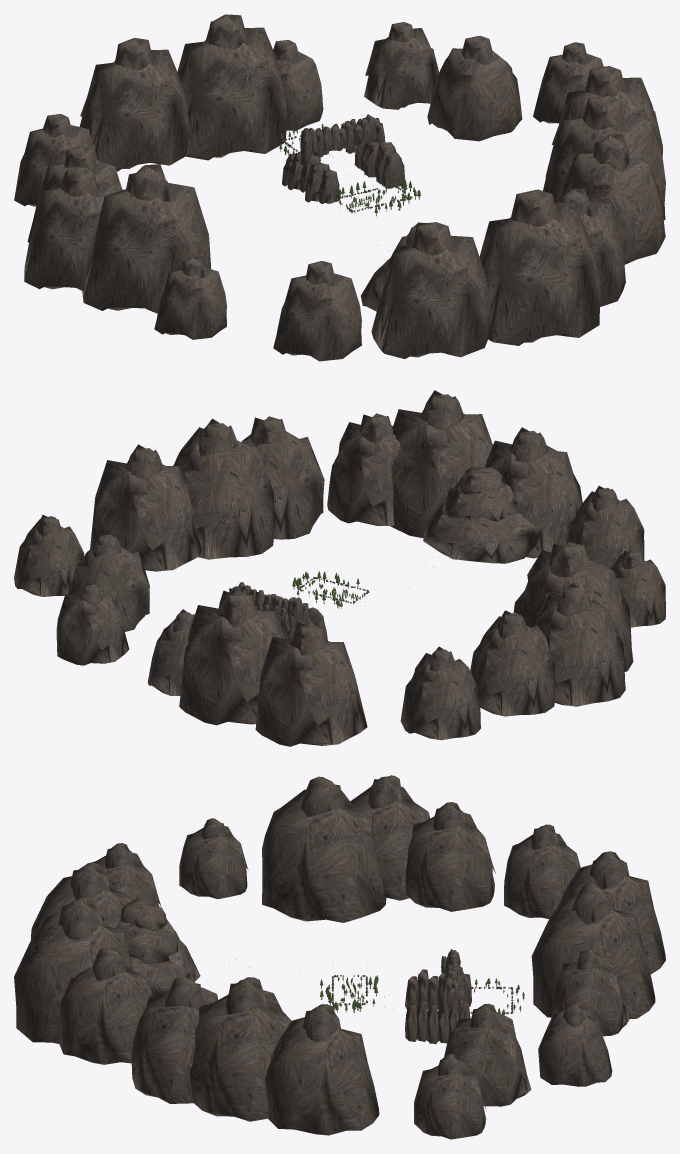
The model's file is emberhold_static_models.glb.
The picture shows the model from 3 angles, top to bottom: view 1: azimuth 30°, elevation 25°; view 2: azimuth 150°, elevation 25°; view 3: azimuth 270°, elevation 25°; orthographic projection. The views are drawn at different scales.
Parts seen in each view (by area): view 1: emberhold_static_models; view 2: emberhold_static_models; view 3: emberhold_static_models.
Boxes of the visible parts, x1,y1,x2,y2 form: emberhold_static_models: [14, 14, 665, 361]; emberhold_static_models: [14, 390, 665, 746]; emberhold_static_models: [14, 775, 665, 1139].
Bounding box in the file's own units: 2107 × 409 × 1995.
3 materials, 3 textured.
